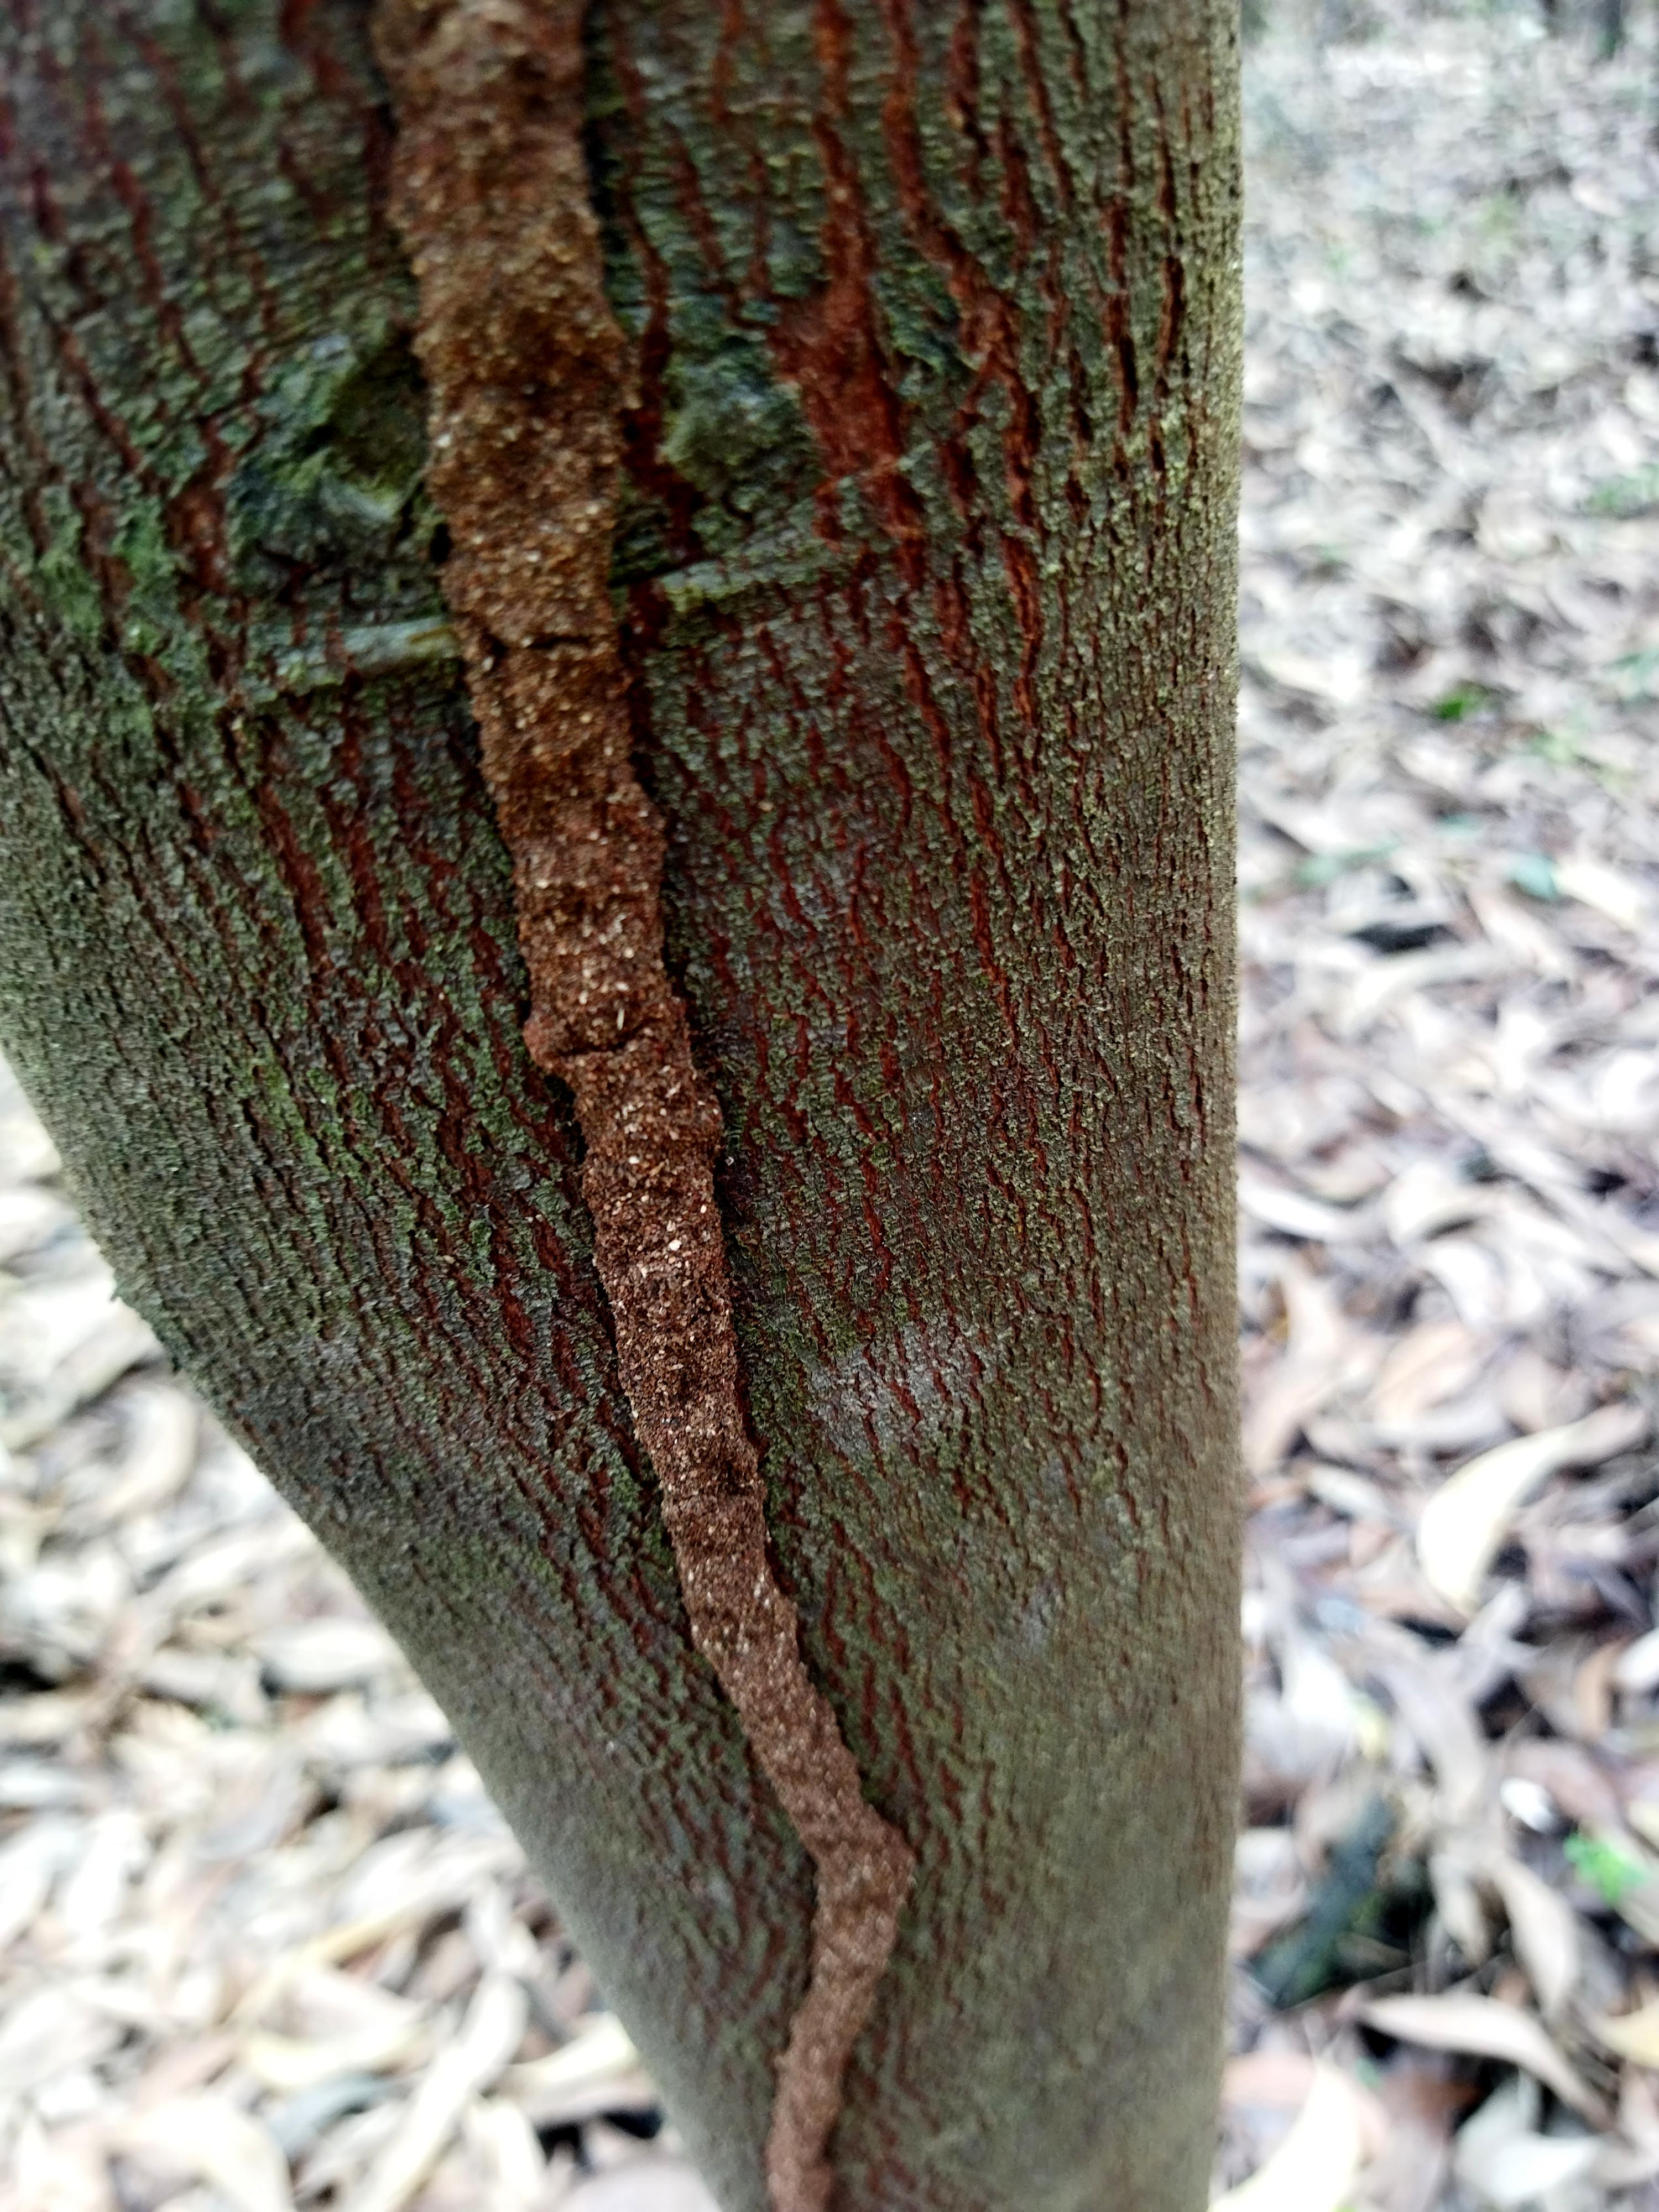Termite - Nest: (289, 23, 1000, 2212)
